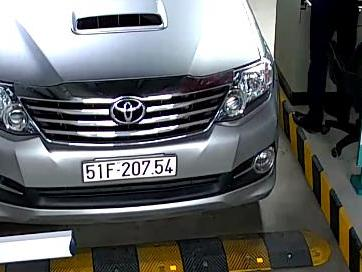number: (84, 157, 177, 183)
